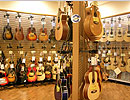guitar: (83, 1, 104, 37), (54, 1, 69, 42), (83, 69, 100, 99), (25, 56, 37, 82), (2, 13, 13, 41), (26, 17, 37, 42), (39, 16, 48, 42)
